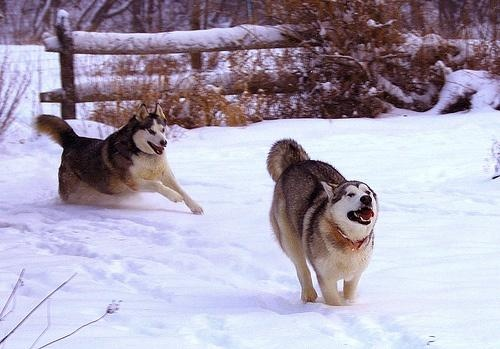dog: (36, 104, 206, 217), (267, 139, 379, 310)
